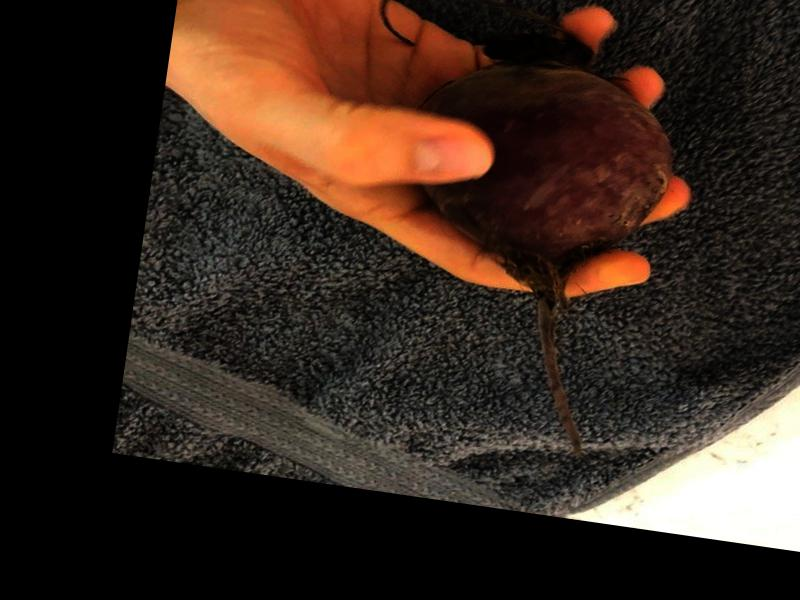Beet: (372, 20, 688, 467)
